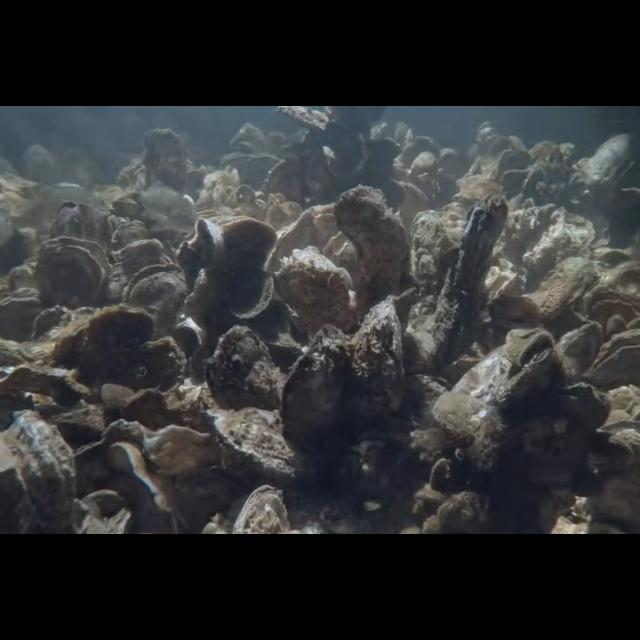Oyster-Closed: (332, 186, 410, 304), (204, 408, 306, 487), (232, 485, 290, 535), (0, 294, 48, 342), (100, 383, 138, 413)
Oyster-Indeterminate: (432, 194, 508, 346), (280, 323, 356, 452), (0, 410, 76, 534), (452, 328, 564, 410), (274, 246, 356, 340), (51, 305, 155, 371), (204, 324, 276, 412), (351, 296, 403, 416), (220, 216, 276, 320), (36, 236, 112, 310), (410, 209, 460, 321), (522, 256, 608, 320), (554, 323, 604, 389), (133, 336, 187, 392)
Oyster-Open: (124, 260, 188, 334), (582, 328, 640, 390), (178, 218, 222, 286)
